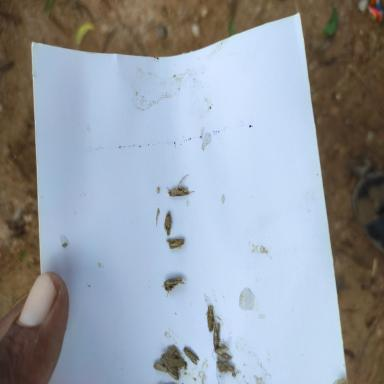pbw: (166, 174, 194, 197), (161, 276, 187, 297), (206, 304, 222, 332), (182, 346, 200, 365), (212, 322, 220, 361), (216, 361, 235, 373), (166, 238, 184, 250), (164, 211, 172, 236), (168, 358, 186, 368), (152, 362, 167, 373), (214, 346, 230, 355), (168, 371, 179, 380)
